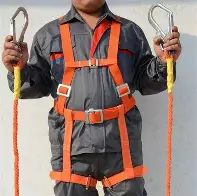safety belt: (46, 22, 149, 183)
